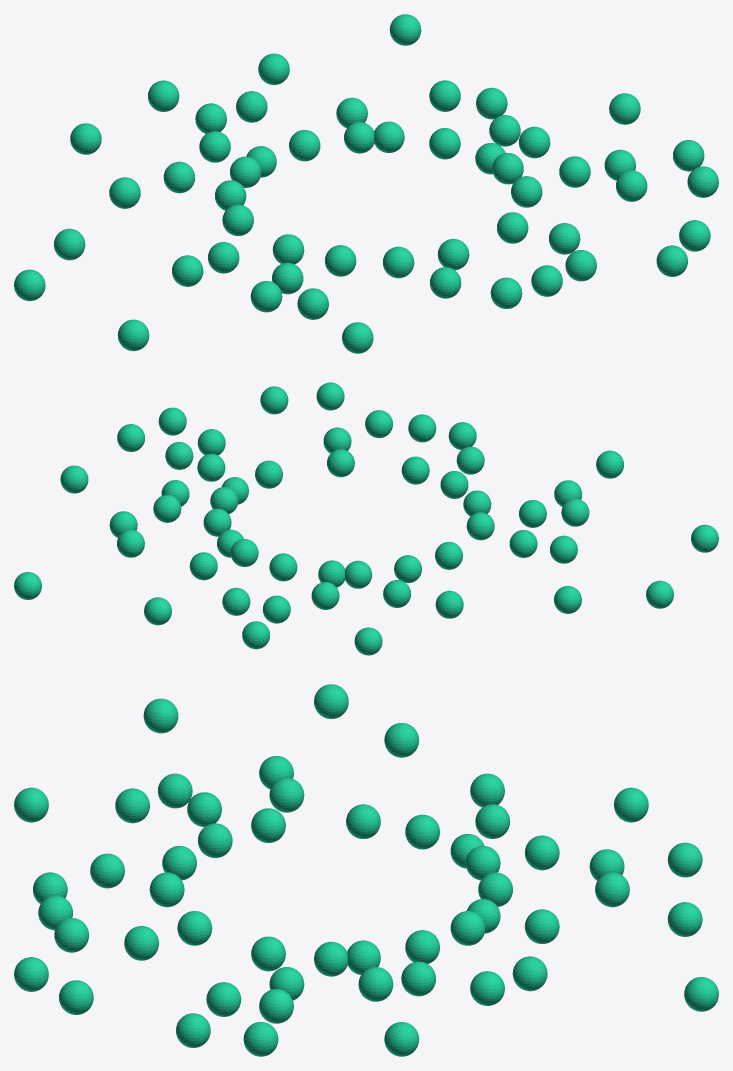
Rendered from tinySpawnpoints 1.fbx.
3 views of the same model, one above another, from view 1: azimuth 30°, elevation 25°; view 2: azimuth 150°, elevation 25°; view 3: azimuth 270°, elevation 25° (orthographic). The views are drawn at different scales.
Parts seen in each view (by area): view 1: Tinys.004, Tinys.036, Tinys.010, Tinys.026, Tinys.021, Tinys.016, Tinys.013, Tinys.009, Tinys.006, Tinys.030, Tinys.022, Tinys.019 (+40 smaller); view 2: Tinys.013, Tinys.006, Tinys.027, Tinys.009, Tinys.050, Tinys.047, Tinys.039, Tinys.030, Tinys.018, Tinys.016, Tinys.032, Tinys.021 (+39 smaller); view 3: Tinys.045, Tinys.005, Tinys.032, Tinys.008, Tinys.036, Tinys.028, Tinys.018, Tinys.012, Tinys.006, Tinys, Tinys.047, Tinys.029 (+40 smaller).
Boxes of the visible parts, left/top/right/bottom form: Tinys.004: left=389, top=14, right=421, bottom=45; Tinys.036: left=199, top=131, right=230, bottom=162; Tinys.010: left=679, top=220, right=710, bottom=251; Tinys.026: left=429, top=80, right=460, bottom=111; Tinys.021: left=531, top=265, right=562, bottom=296; Tinys.016: left=109, top=177, right=140, bottom=208; Tinys.013: left=609, top=93, right=640, bottom=124; Tinys.009: left=656, top=245, right=687, bottom=276; Tinys.006: left=70, top=123, right=101, bottom=154; Tinys.030: left=559, top=156, right=590, bottom=187; Tinys.022: left=565, top=250, right=596, bottom=281; Tinys.019: left=297, top=288, right=328, bottom=319; Tinys.013: left=60, top=465, right=88, bottom=493; Tinys.006: left=354, top=627, right=382, bottom=655; Tinys.027: left=189, top=552, right=217, bottom=580; Tinys.009: left=316, top=382, right=344, bottom=410; Tinys.050: left=466, top=512, right=494, bottom=540; Tinys.047: left=401, top=456, right=429, bottom=484; Tinys.039: left=269, top=553, right=297, bottom=581; Tinys.030: left=197, top=453, right=225, bottom=481; Tinys.018: left=561, top=498, right=589, bottom=526; Tinys.016: left=435, top=590, right=463, bottom=618; Tinys.032: left=456, top=446, right=484, bottom=474; Tinys.021: left=408, top=414, right=436, bottom=442; Tinys.045: left=251, top=936, right=285, bottom=971; Tinys.005: left=667, top=842, right=702, bottom=877; Tinys.032: left=90, top=853, right=124, bottom=888; Tinys.008: left=14, top=787, right=48, bottom=822; Tinys.036: left=524, top=835, right=559, bottom=870; Tinys.028: left=401, top=961, right=435, bottom=996; Tinys.018: left=157, top=773, right=192, bottom=808; Tinys.012: left=243, top=1022, right=278, bottom=1056; Tinys.006: left=614, top=787, right=648, bottom=822; Tinys: left=405, top=814, right=439, bottom=849; Tinys.047: left=149, top=872, right=184, bottom=907; Tinys.029: left=358, top=967, right=393, bottom=1001.
Size of the model in its own units: 1353 by 56.64 by 1144.
